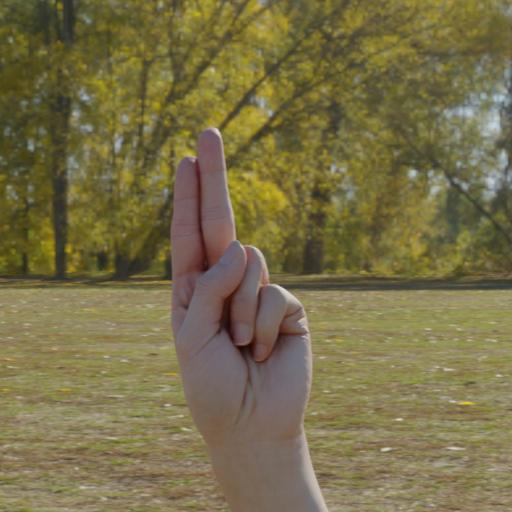U: (169, 100, 316, 446)
